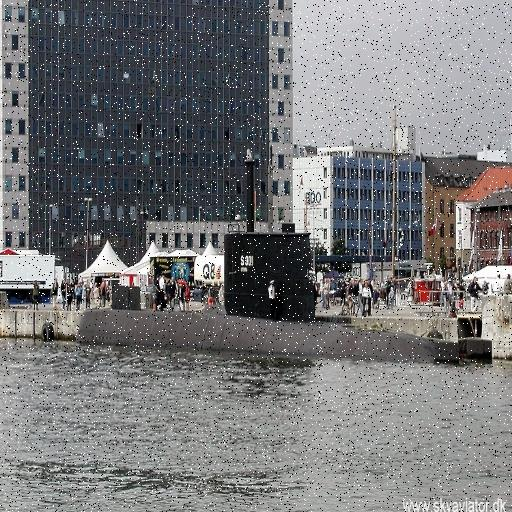submarine: (77, 233, 494, 363)
